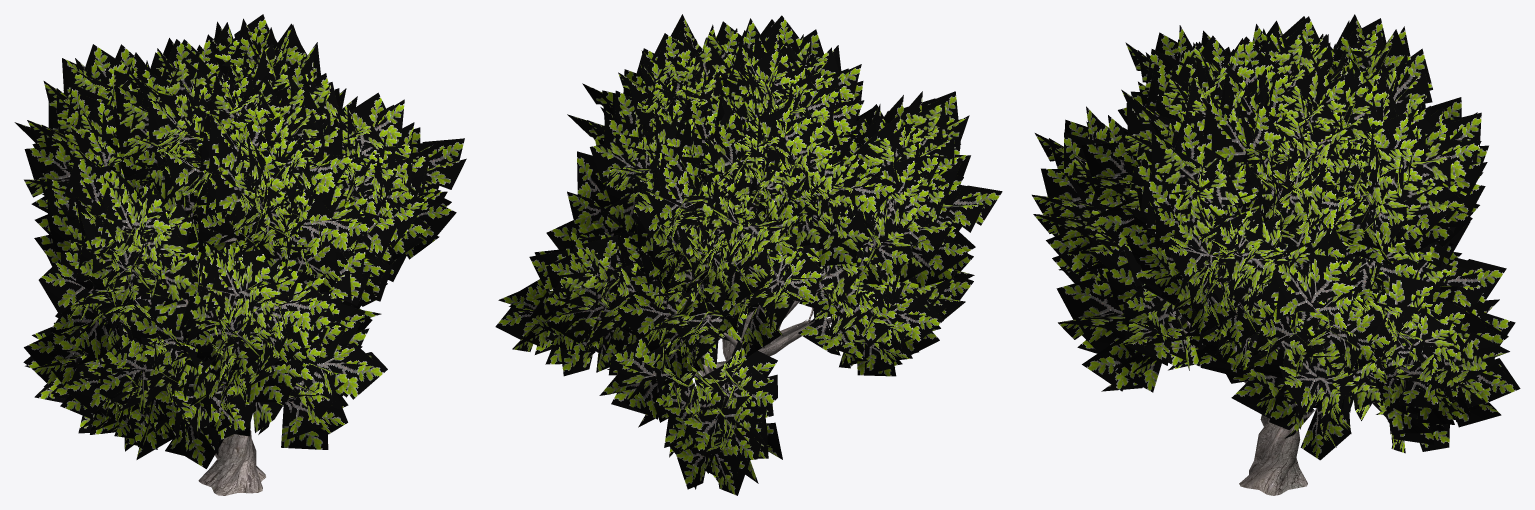
File: tree8.glb
The picture shows the model from 3 angles, left to right: view 1: azimuth 30°, elevation 25°; view 2: azimuth 150°, elevation 25°; view 3: azimuth 270°, elevation 25°; orthographic projection. The views are drawn at different scales.
Visible parts, largest first — view 1: Tree8; view 2: Tree8; view 3: Tree8.
Boxes of the visible parts, bbox=[...] form: Tree8: bbox=[14, 14, 466, 495]; Tree8: bbox=[495, 14, 1002, 495]; Tree8: bbox=[1032, 14, 1520, 495].
Bounding box in the file's own units: 5.91 × 5.74 × 5.79.
Materials: 2 (2 with a texture image).
